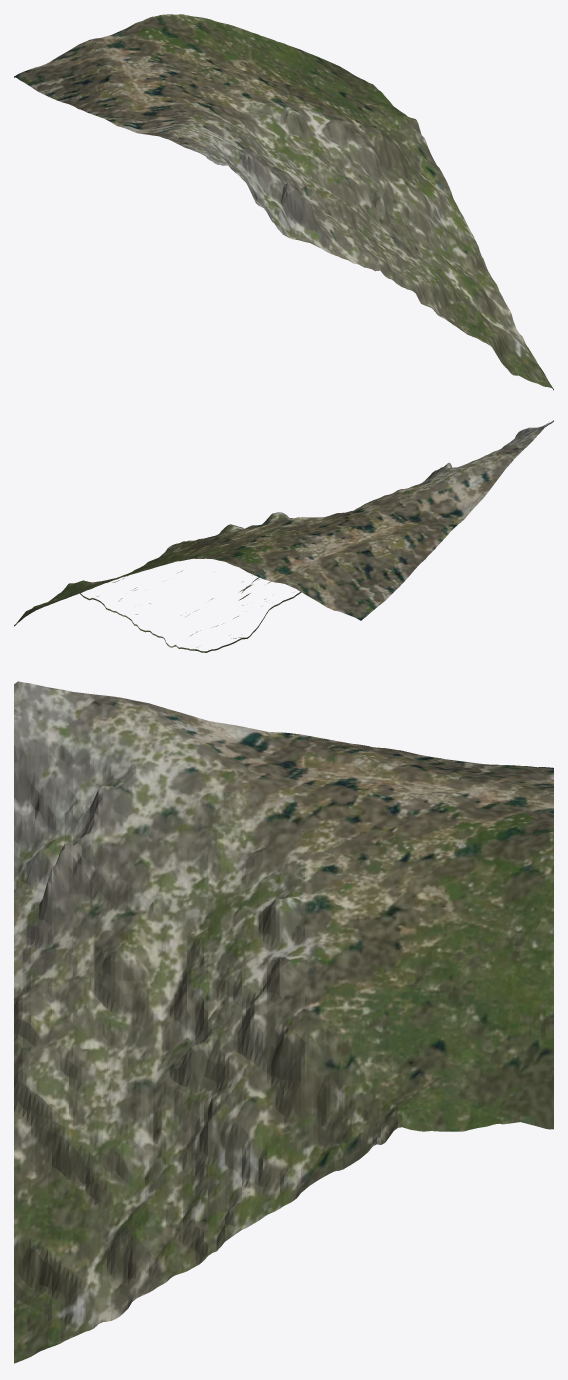
3 renders of one model, top to bottom at view 1: azimuth 30°, elevation 25°; view 2: azimuth 150°, elevation 25°; view 3: azimuth 270°, elevation 25°, orthographic. The views are drawn at different scales.
Size of the model in its own units: 250 by 220 by 241.
1 material, 1 textured.
